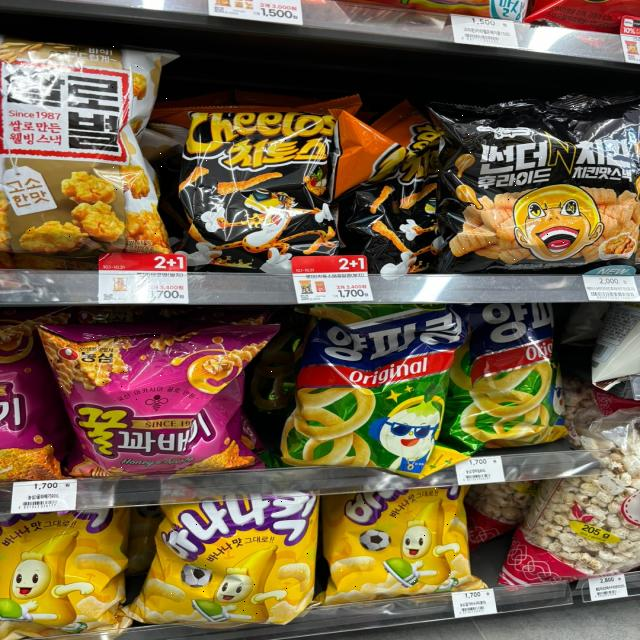product: (2, 42, 173, 252), (44, 325, 278, 472), (292, 305, 467, 471), (184, 96, 348, 267), (438, 105, 577, 263), (160, 500, 315, 615), (331, 488, 477, 592), (8, 514, 125, 630)
